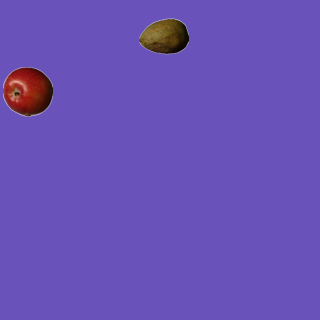Apple Braeburn: (2, 66, 52, 116)
Papaya: (138, 11, 188, 61)
